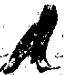Owl: (2, 4, 62, 75)
